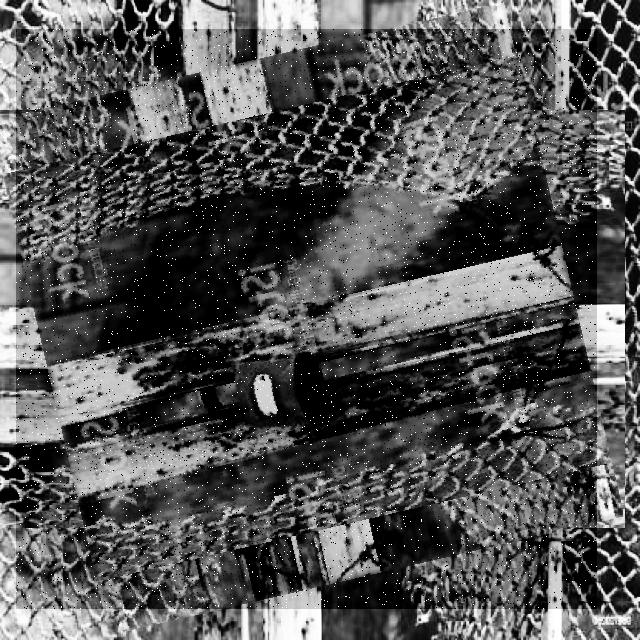anomaly-fence: (16, 29, 597, 609)
